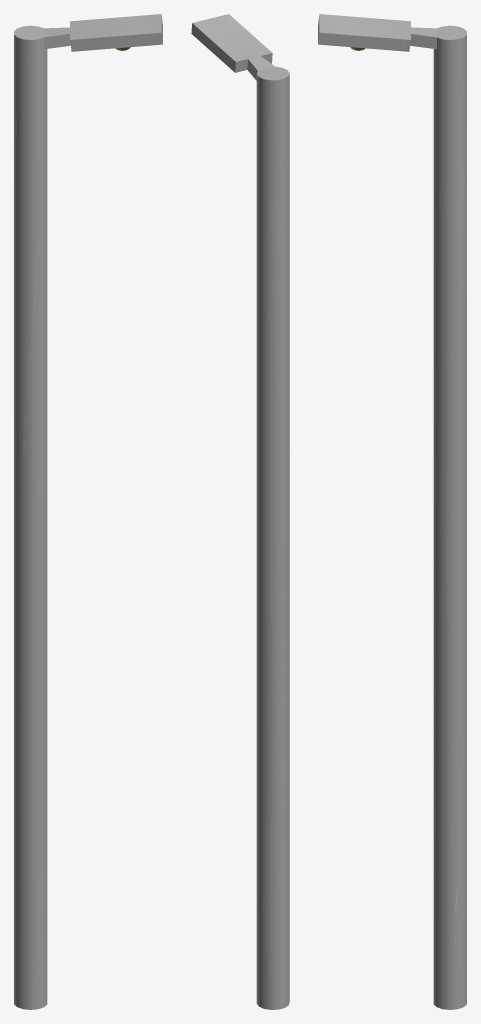
Rendered from Lampost.fbx.
The picture shows the model from 3 angles, left to right: view 1: azimuth 90°, elevation 25°; view 2: azimuth 210°, elevation 25°; view 3: azimuth 270°, elevation 25°; orthographic projection. The views are drawn at different scales.
Parts seen in each view (by area): view 1: LampostBody, LampostHead; view 2: LampostBody, LampostHead; view 3: LampostBody, LampostHead.
Part boxes in pixels (x1=…): LampostBody: x1=14, y1=25, x2=47, y2=1009; LampostHead: x1=44, y1=14, x2=162, y2=51; LampostBody: x1=256, y1=66, x2=289, y2=1009; LampostHead: x1=191, y1=14, x2=274, y2=80; LampostBody: x1=433, y1=25, x2=466, y2=1009; LampostHead: x1=318, y1=14, x2=436, y2=51.
Size of the model in its own units: 0.1648 by 4.02 by 0.5543.
